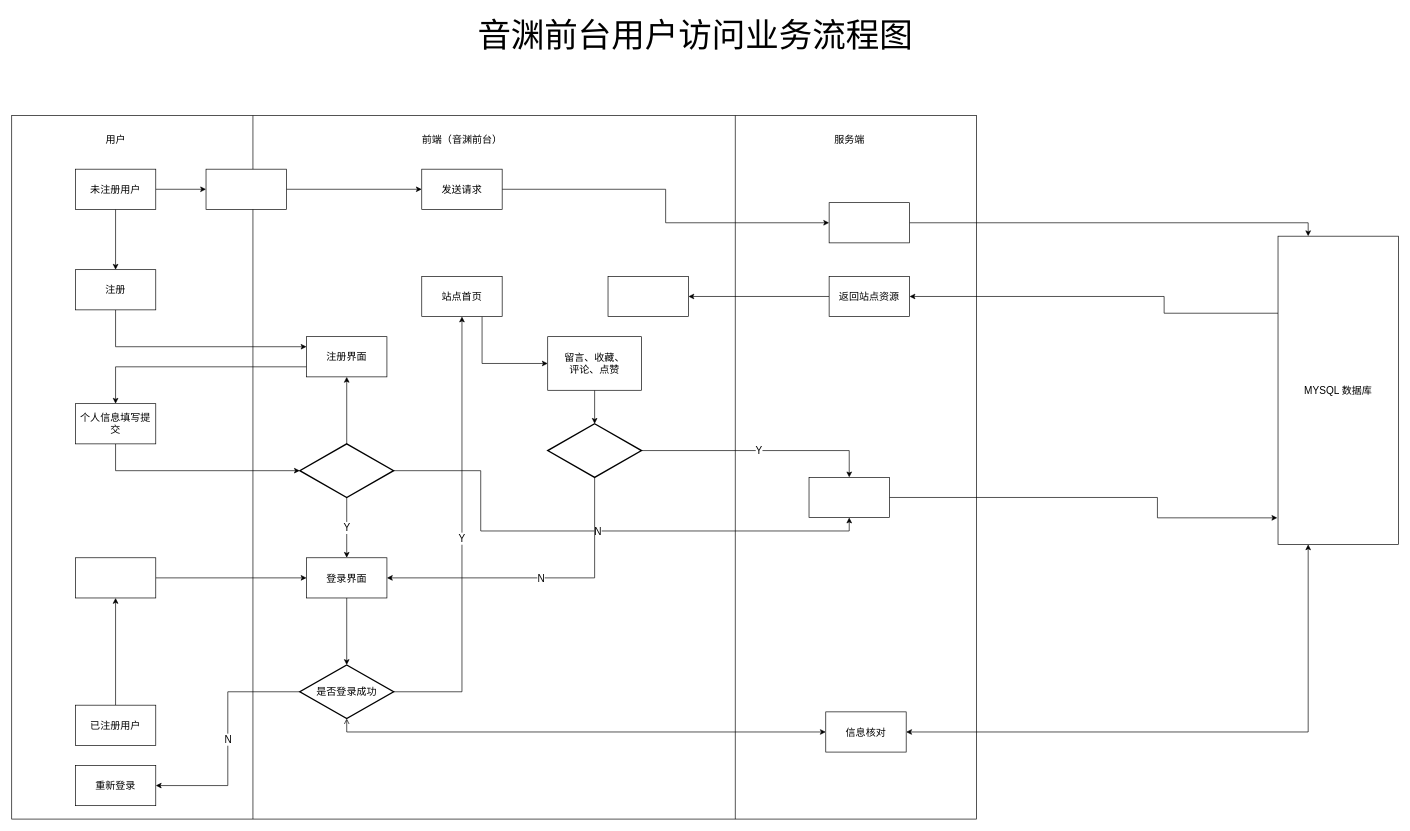
The diagram is 1410 pixels wide and 831 high, and some of its shapes have lost their labels. The centre of each missing label's shape, as x and y in pixels:
"信息写入" belongs at point 848,497.
"是否注册成功" belongs at point 346,470.
"是否登录" belongs at point 594,450.
"登录" belongs at point 115,577.
"获取站点资源" belongs at point 869,222.
"访问站点" belongs at point 245,189.
"页面信息刷新" belongs at point 647,296.
